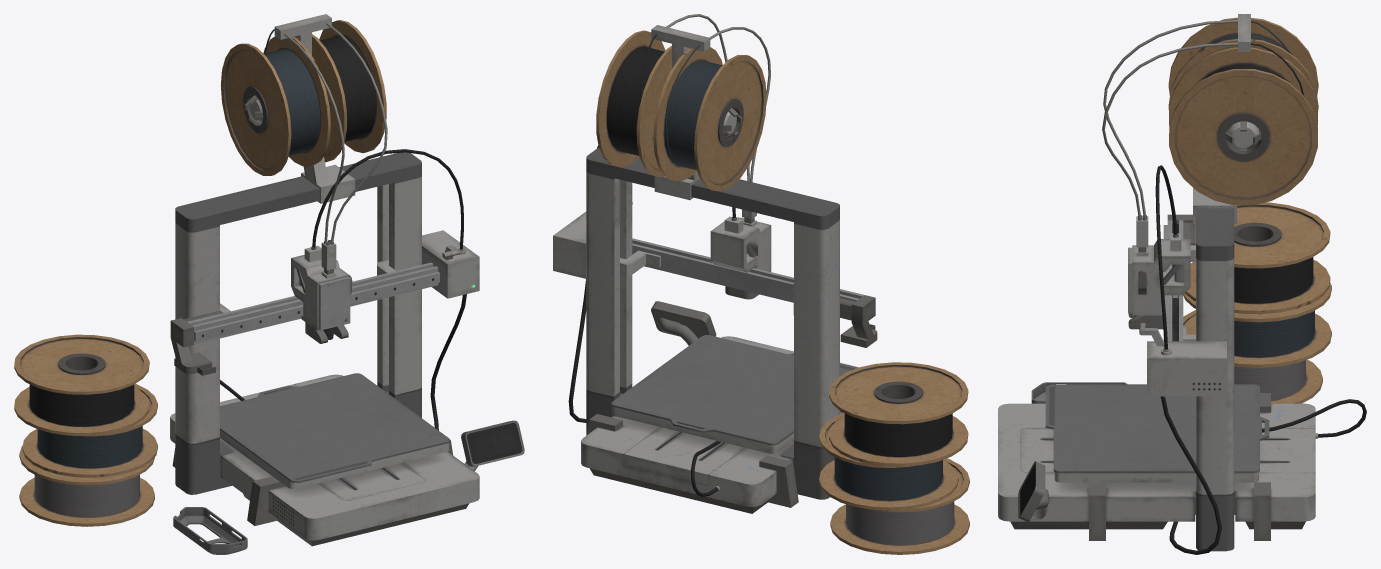
The model's file is 3d-printer.glb.
3 renders of one model, left to right at view 1: azimuth 30°, elevation 25°; view 2: azimuth 150°, elevation 25°; view 3: azimuth 270°, elevation 25°, orthographic. The views are drawn at different scales.
Parts seen in each view (by area): view 1: 3D_Printer, Filament_Spool_Stack, Filament_Spools, Device_Shell; view 2: 3D_Printer, Filament_Spool_Stack, Filament_Spools; view 3: 3D_Printer, Filament_Spools, Filament_Spool_Stack, Device_Shell.
Boxes of the visible parts, box(x1,y1,x2,y2) form: 3D_Printer: box(170, 14, 524, 546); Filament_Spool_Stack: box(14, 334, 157, 526); Filament_Spools: box(220, 20, 386, 175); Device_Shell: box(173, 507, 247, 554); 3D_Printer: box(553, 14, 877, 513); Filament_Spool_Stack: box(819, 362, 969, 554); Filament_Spools: box(596, 30, 766, 190); 3D_Printer: box(998, 14, 1366, 554); Filament_Spools: box(1168, 17, 1318, 205); Filament_Spool_Stack: box(1183, 202, 1331, 403); Device_Shell: box(1031, 382, 1127, 403).
Size of the model in its own units: 0.704 by 0.7013 by 0.4993.
Materials: 2 (2 with a texture image).
